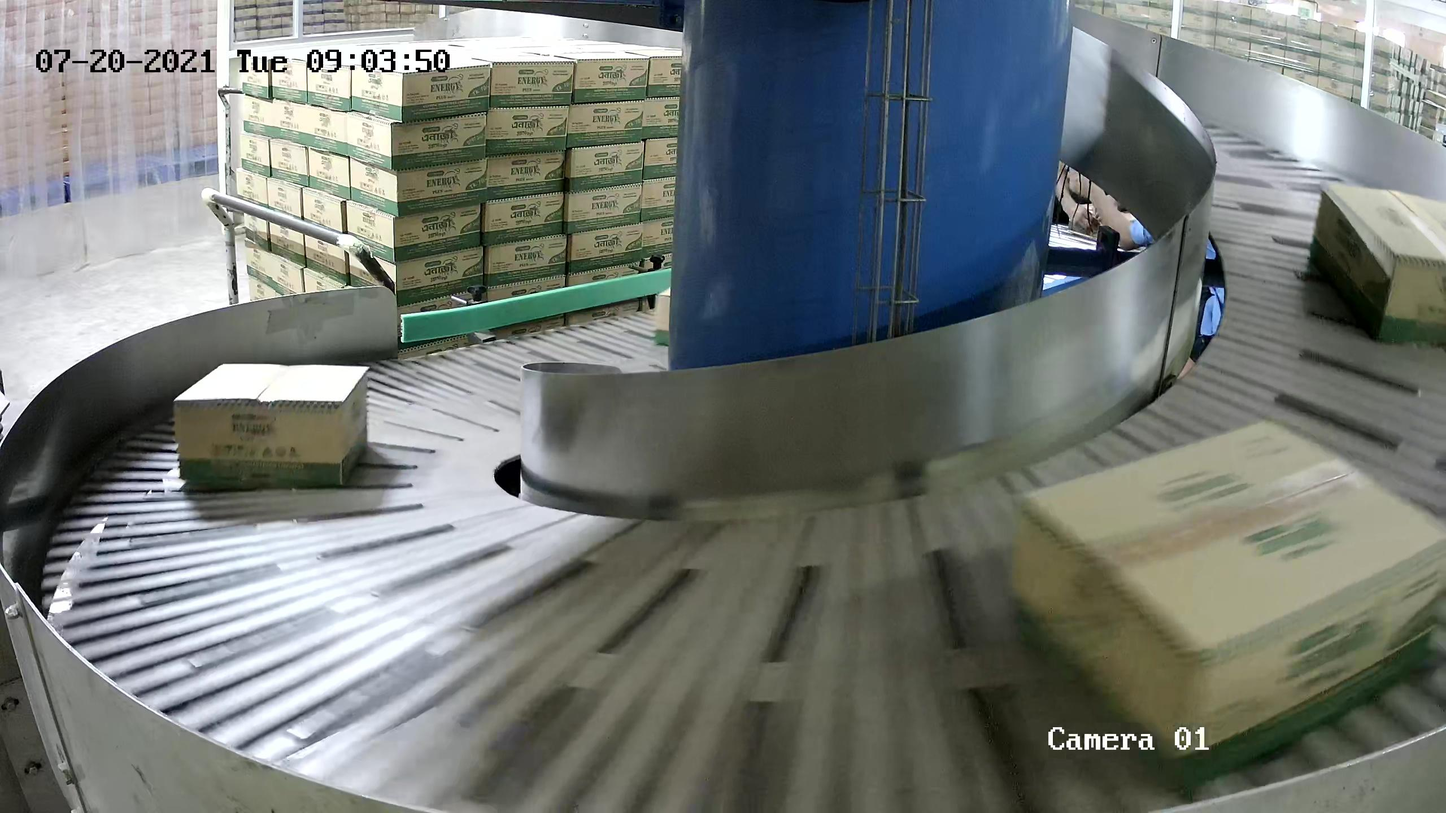Box: (1000, 412, 1446, 791), (173, 359, 371, 497), (1305, 179, 1446, 354)
